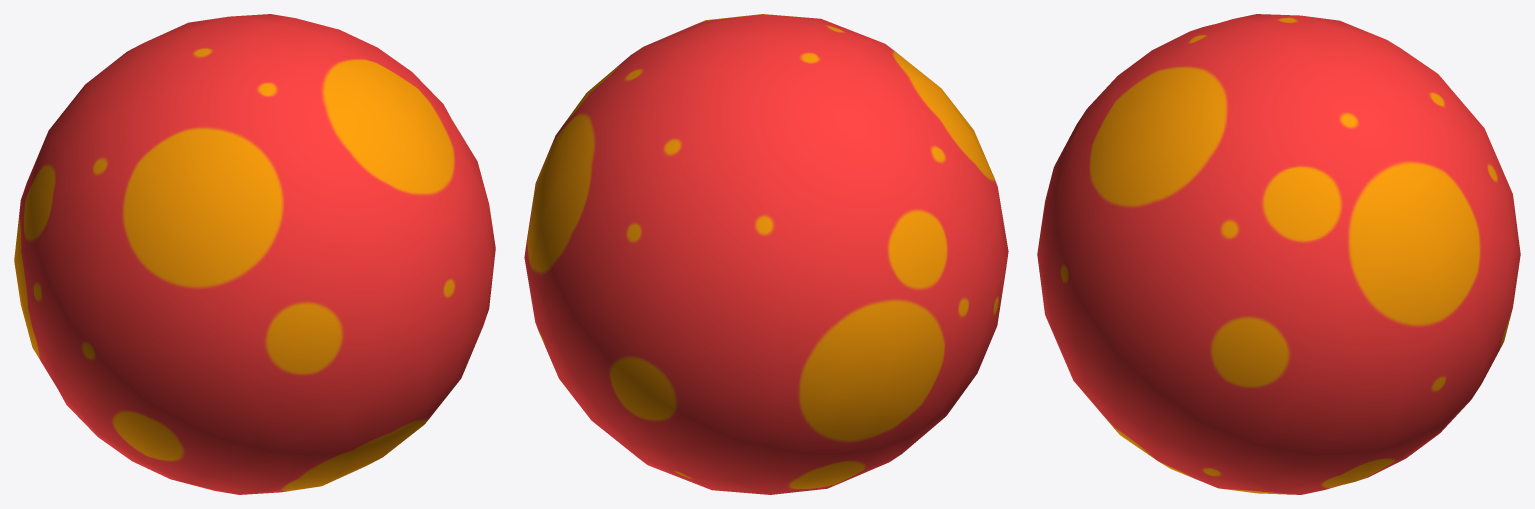
The model's file is bouncing_ball.fbx.
3 views of the same model, side by side, from view 1: azimuth 30°, elevation 25°; view 2: azimuth 150°, elevation 25°; view 3: azimuth 270°, elevation 25° (orthographic).
Parts seen in each view (by area): view 1: pPlatonic1; view 2: pPlatonic1; view 3: pPlatonic1.
Part boxes in pixels (x1,y1,x2,y2): pPlatonic1: (14, 14, 495, 494); pPlatonic1: (524, 14, 1008, 494); pPlatonic1: (1037, 14, 1520, 494).
Bounding box in the file's own units: 1.99 × 2 × 2.
1 material, 1 textured.
